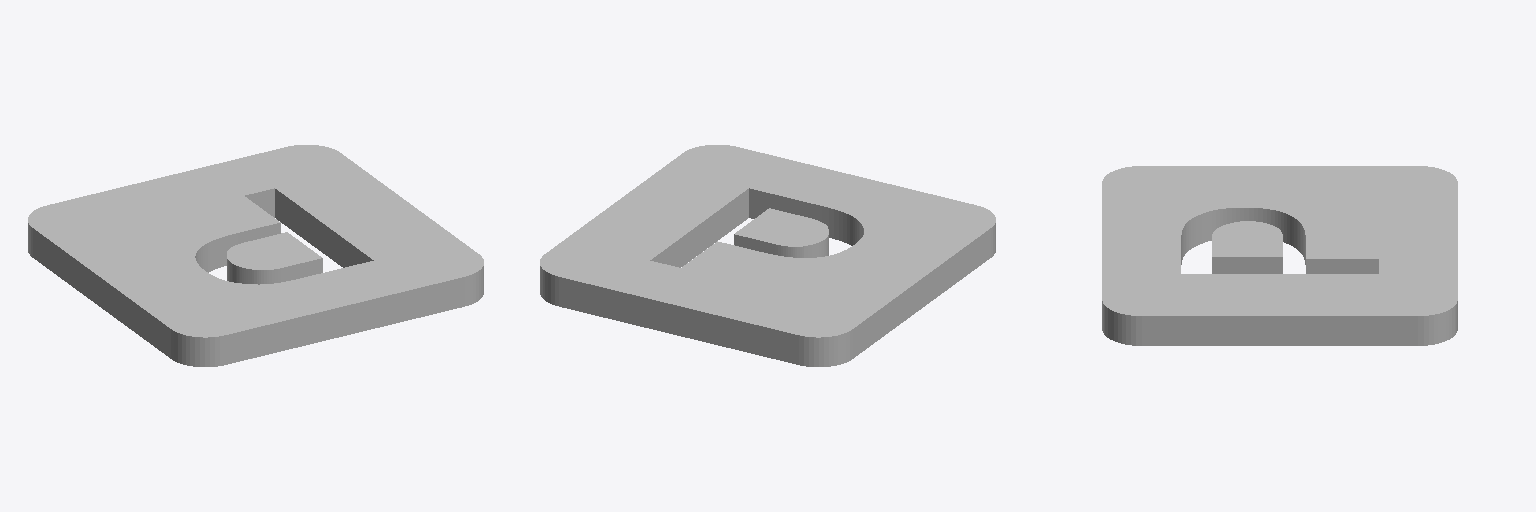
The model's file is correctedPakr.obj.
The picture shows the model from 3 angles: view 1: azimuth 30°, elevation 25°; view 2: azimuth 150°, elevation 25°; view 3: azimuth 270°, elevation 25°; orthographic projection.
Parts seen in each view (by area): view 1: Curve.003_Curve.006, Curve.004_Curve.007; view 2: Curve.003_Curve.006, Curve.004_Curve.007; view 3: Curve.003_Curve.006, Curve.004_Curve.007.
Part boxes in pixels (left/top/right/bottom): Curve.003_Curve.006: left=28, top=145, right=483, bottom=366; Curve.004_Curve.007: left=227, top=232, right=322, bottom=284; Curve.003_Curve.006: left=540, top=145, right=995, bottom=366; Curve.004_Curve.007: left=734, top=208, right=828, bottom=257; Curve.003_Curve.006: left=1102, top=166, right=1457, bottom=345; Curve.004_Curve.007: left=1212, top=221, right=1282, bottom=273.
Bounding box in the file's own units: 1.93 × 0.1784 × 1.93.